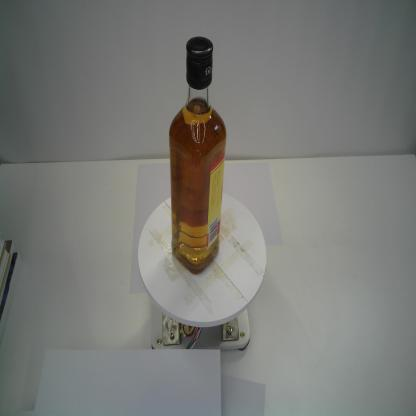Seasoner: (167, 35, 228, 278)
